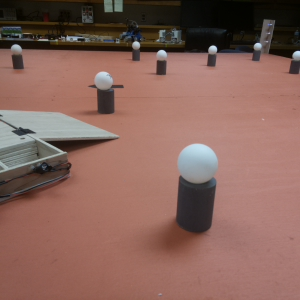obstacle: (176, 142, 218, 232), (95, 72, 115, 113), (11, 43, 26, 71), (156, 49, 168, 76), (207, 44, 219, 68), (289, 49, 300, 73), (131, 41, 141, 63), (252, 41, 262, 61)
side: (2, 151, 70, 200)
slope: (1, 109, 120, 143)
